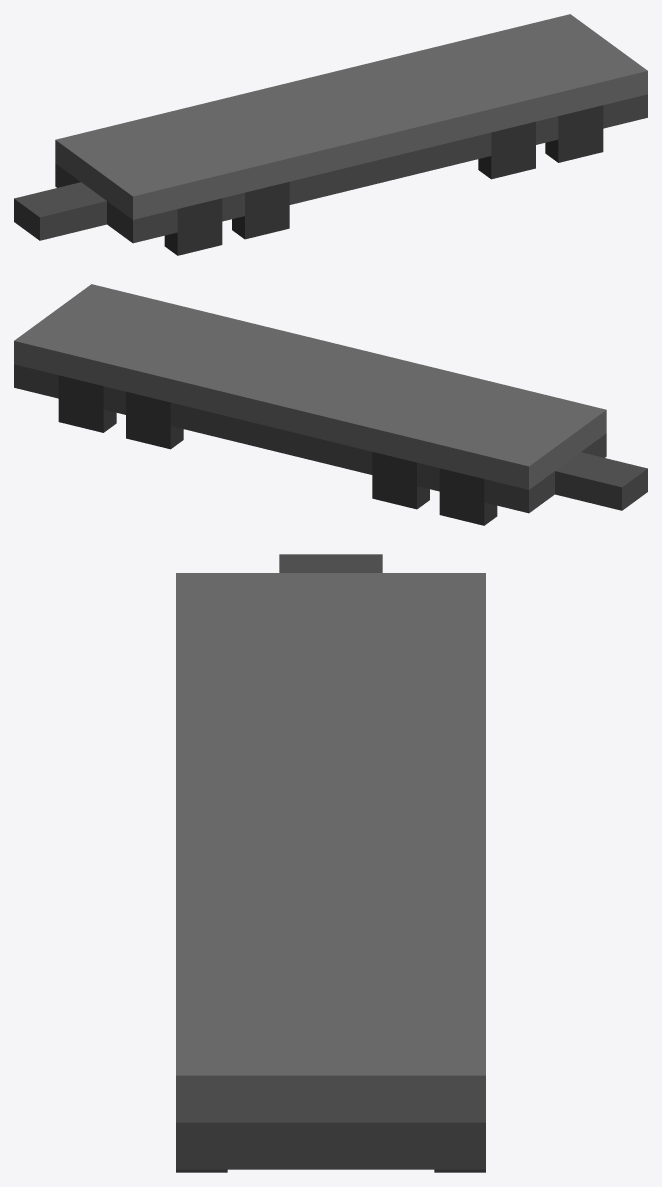
Rendered from train-trailer-v6-grey.gltf.
3 views of the same model, one above another, from view 1: azimuth 30°, elevation 25°; view 2: azimuth 150°, elevation 25°; view 3: azimuth 270°, elevation 25° (orthographic). The views are drawn at different scales.
Parts seen in each view (by area): view 1: model, wheels; view 2: model, wheels; view 3: model.
Boxes of the visible parts, x1=… form: model: x1=14, y1=14, x2=647, y2=243; wheels: x1=164, y1=105, x2=603, y2=255; model: x1=14, y1=284, x2=647, y2=513; wheels: x1=58, y1=375, x2=497, y2=525; model: x1=176, y1=554, x2=485, y2=1169.
Bounding box in the file's own units: 2.6 × 0.3 × 0.6.
2 materials, 2 textured.
